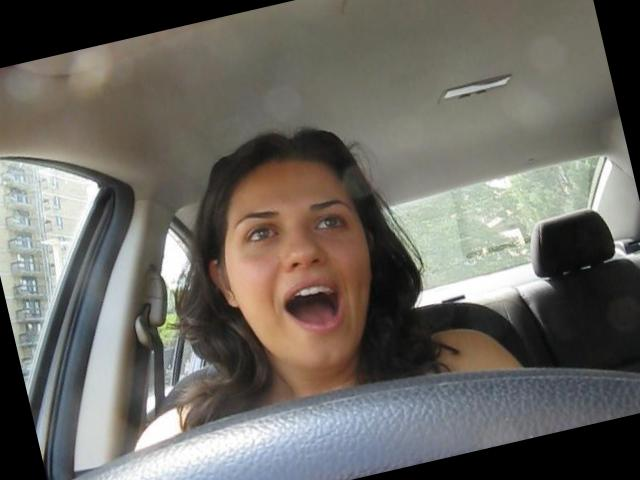eye_open: (238, 218, 285, 252), (308, 206, 349, 238)
face: (210, 178, 394, 386)
mouth_open: (267, 270, 355, 346)
